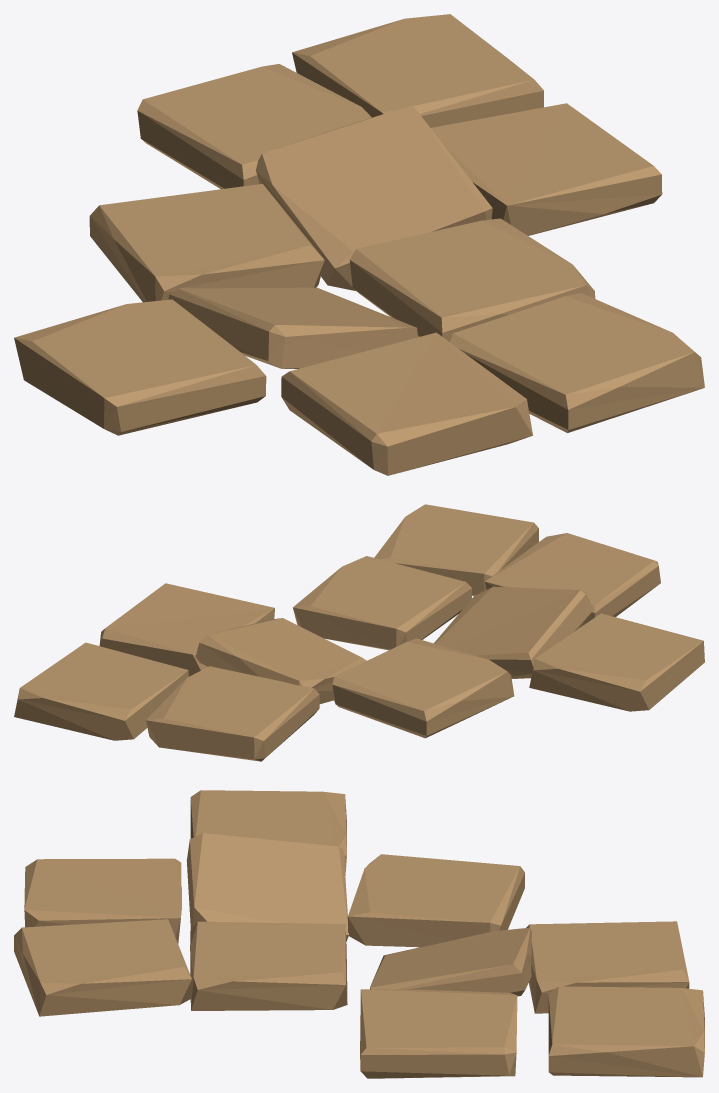
Rendered from SM_floortiles_02.fbx.
The picture shows the model from 3 angles, top to bottom: view 1: azimuth 30°, elevation 25°; view 2: azimuth 150°, elevation 25°; view 3: azimuth 270°, elevation 25°; orthographic projection. The views are drawn at different scales.
Parts seen in each view (by area): view 1: Object32864; view 2: Object32864; view 3: Object32864.
Part boxes in pixels (x1,y1,x2,y2): Object32864: [14, 14, 704, 475]; Object32864: [14, 504, 704, 761]; Object32864: [14, 790, 704, 1078].
Size of the model in its own units: 77.31 by 10.99 by 87.4.
